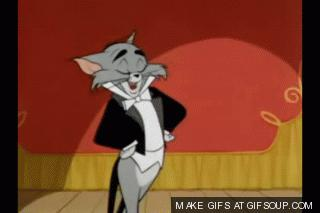tom: (70, 31, 188, 213)
